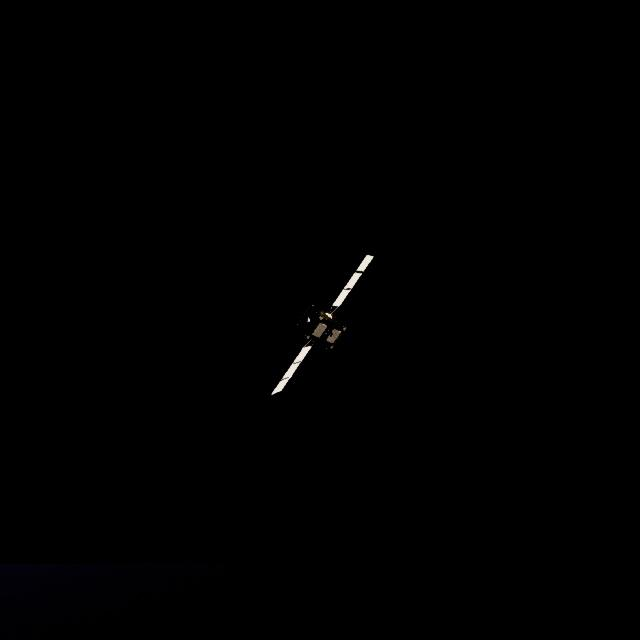medium_debris: (272, 256, 374, 399)
